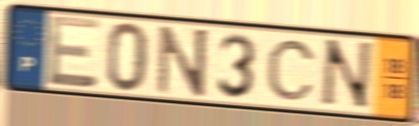0: (104, 20, 152, 94)
3: (215, 31, 258, 100)
C: (264, 37, 318, 103)
E: (46, 12, 102, 90)
N: (316, 37, 376, 113), (155, 23, 211, 98)
